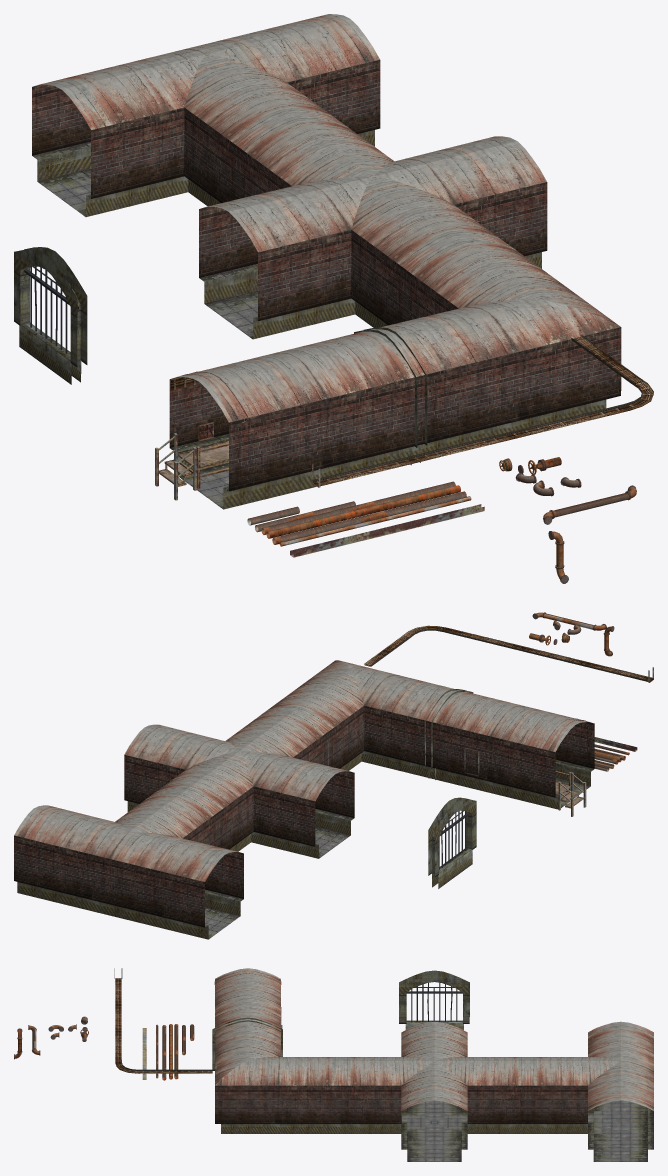
File: Sewer_assets1.fbx
3 renders of one model, top to bottom at view 1: azimuth 30°, elevation 25°; view 2: azimuth 150°, elevation 25°; view 3: azimuth 270°, elevation 25°, orthographic. The views are drawn at different scales.
Parts seen in each view (by area): view 1: Sewer_bit_3, Sewer_kit_T, Sewer_bit_2, Sewer_bit_1, End, roof_wire_1, roof_wire_2, Metal_box, Pipe_10, Pipe_11, Metal_steps, Metal_stand (+4 smaller); view 2: Sewer_kit_T, Sewer_bit_3, Sewer_bit_1, Sewer_bit_2, End, roof_wire_1, roof_wire_2, Metal_steps; view 3: Sewer_bit_3, Sewer_kit_T, Sewer_bit_2, Sewer_bit_1, End, roof_wire_1, Sewer_Beem_1, roof_wire_2.
Part boxes in pixels (x1,y1,x2,y2): Sewer_bit_3: (199,114,547,339); Sewer_kit_T: (32,14,380,216); Sewer_bit_2: (381,236,621,453); Sewer_bit_1: (169,329,424,509); End: (14,247,87,384); roof_wire_1: (509,335,653,438); roof_wire_2: (312,432,514,486); Metal_box: (290,504,484,557); Pipe_10: (266,485,460,538); Pipe_11: (272,491,466,544); Metal_steps: (155,433,196,500); Metal_stand: (177,440,228,488); Sewer_kit_T: (14,790,243,939); Sewer_bit_3: (124,710,354,858); Sewer_bit_1: (426,690,594,809); Sewer_bit_2: (261,660,453,777); End: (428,797,476,888); roof_wire_1: (364,625,523,666); roof_wire_2: (520,646,653,681); Metal_steps: (558,772,586,816); Sewer_bit_3: (341,1021,527,1161); Sewer_kit_T: (527,1021,653,1161); Sewer_bit_2: (215,1021,341,1133); Sewer_bit_1: (215,968,280,1030); End: (399,970,469,1030); roof_wire_1: (115,1031,212,1073); Sewer_Beem_1: (212,1017,282,1070); roof_wire_2: (115,978,121,1031).
Bounding box in the file's own units: 1338 × 300 × 2628.
4 materials, 4 textured.
